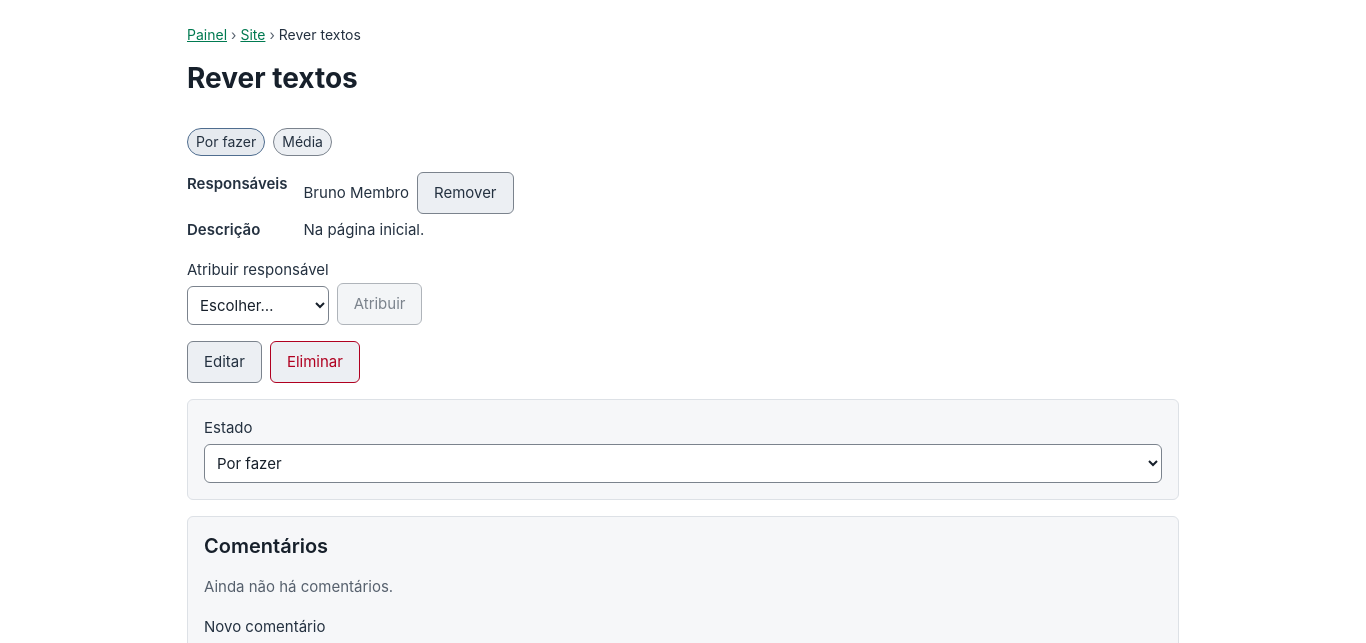
Test case: TaskDetailView (US19, US06, US07, US22) › se a atribuição falhar, mostra o erro da API e os responsáveis não mudam
Select "Carla Membro" in the dropdown labelled "Atribuir responsável" at coordinates (258, 305), box x1=187 y1=286 x2=329 y2=325
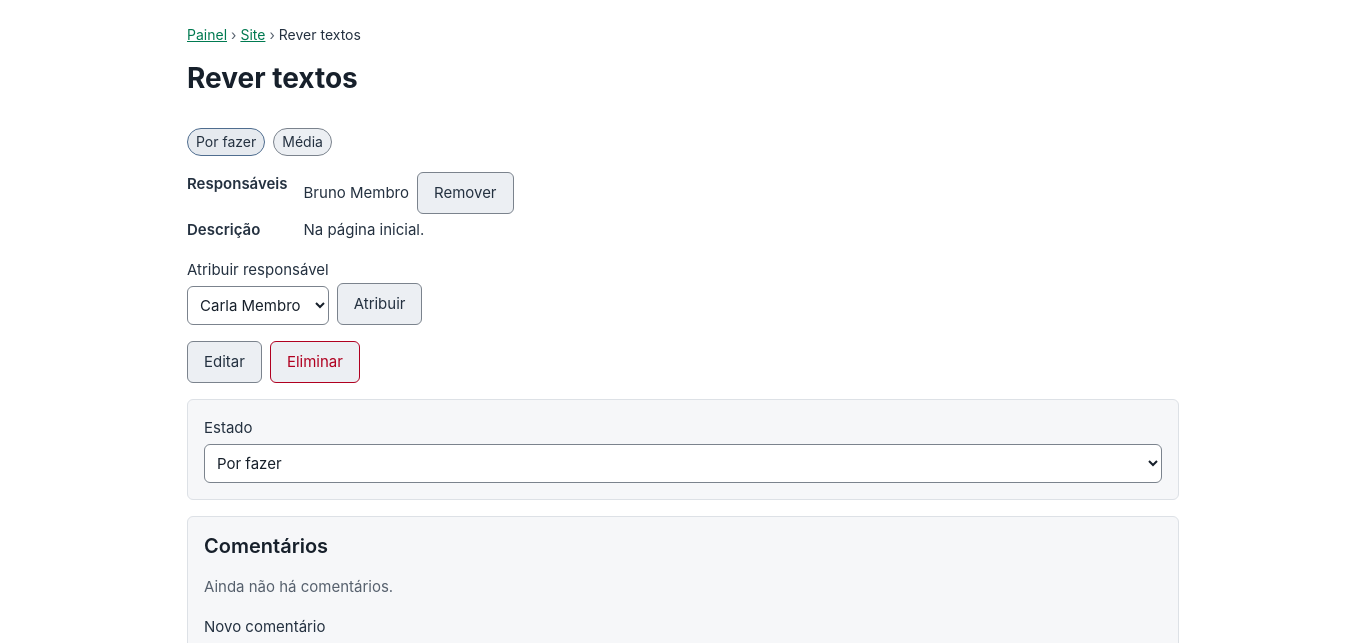
Submit the form named "Atribuir responsável", box x1=187 y1=260 x2=422 y2=325
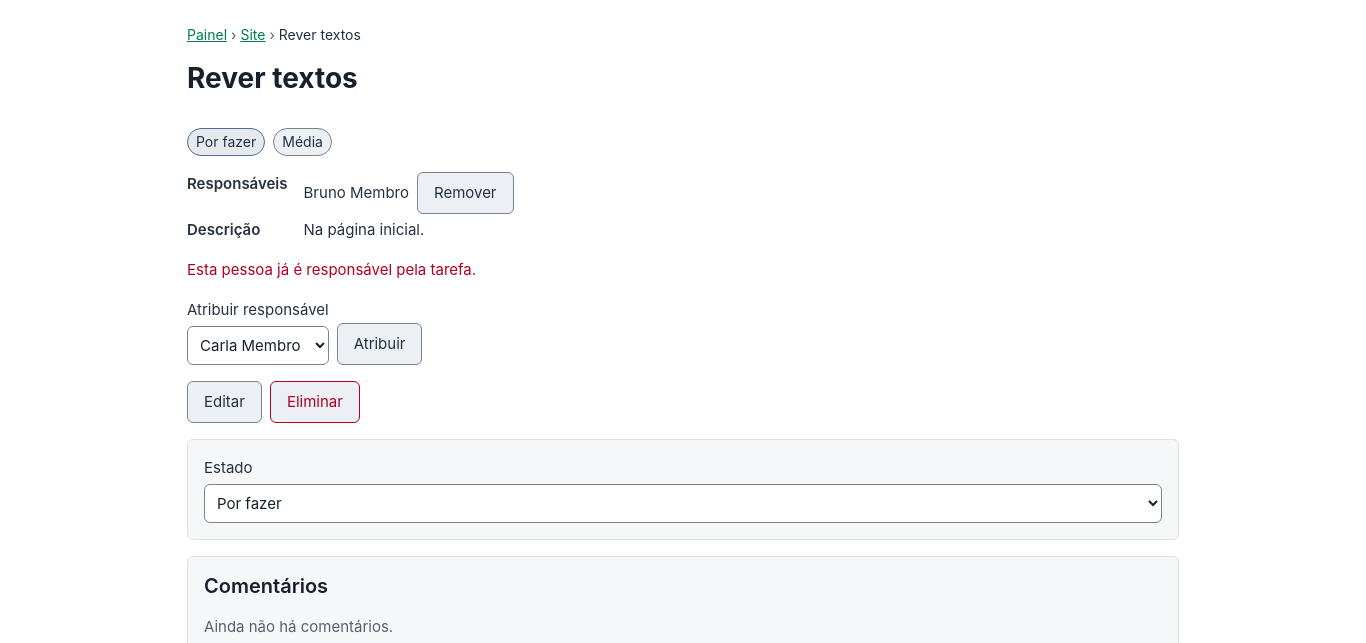
Expected: the message "Esta pessoa já é responsável pela tarefa." is shown, x1=187 y1=258 x2=476 y2=282
